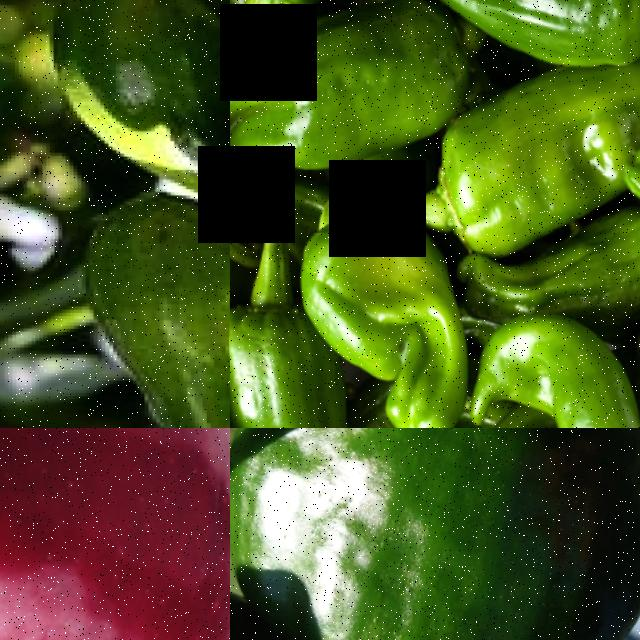apple: (0, 428, 230, 640)
avocado: (36, 0, 230, 218), (86, 180, 230, 428)
bell pepper: (232, 428, 640, 640)
pepper: (305, 240, 473, 410), (402, 121, 604, 221), (512, 352, 640, 428)
